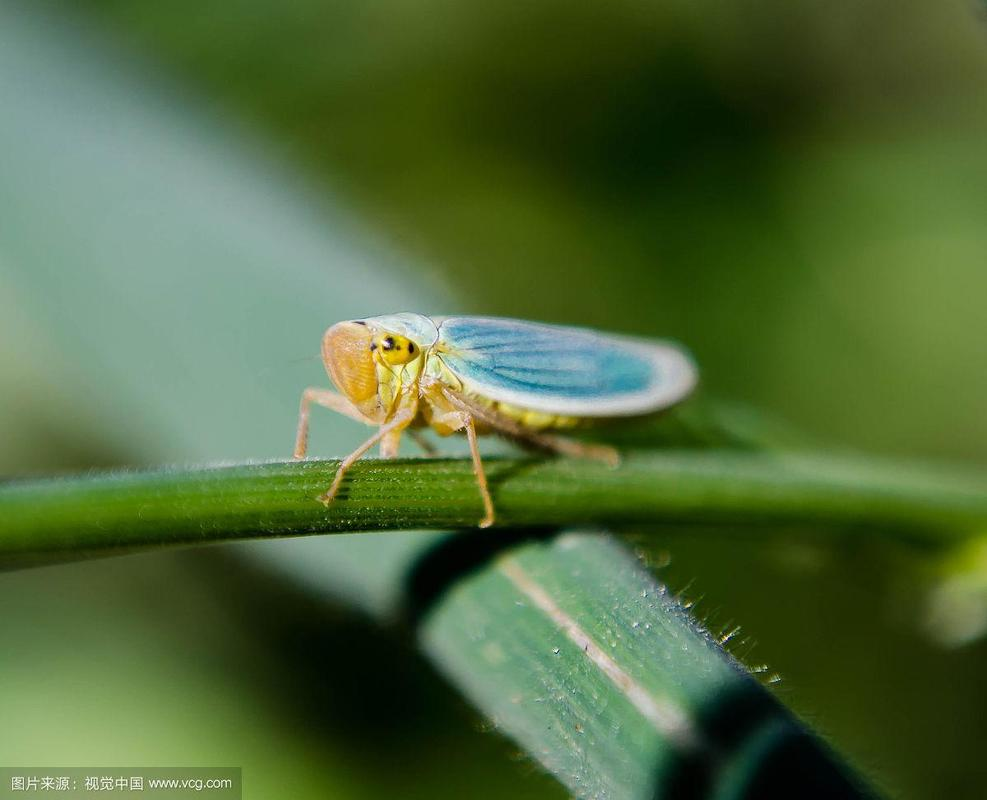Cicadellidae: (292, 312, 701, 529)
